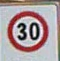limite 30: (6, 9, 49, 52)
